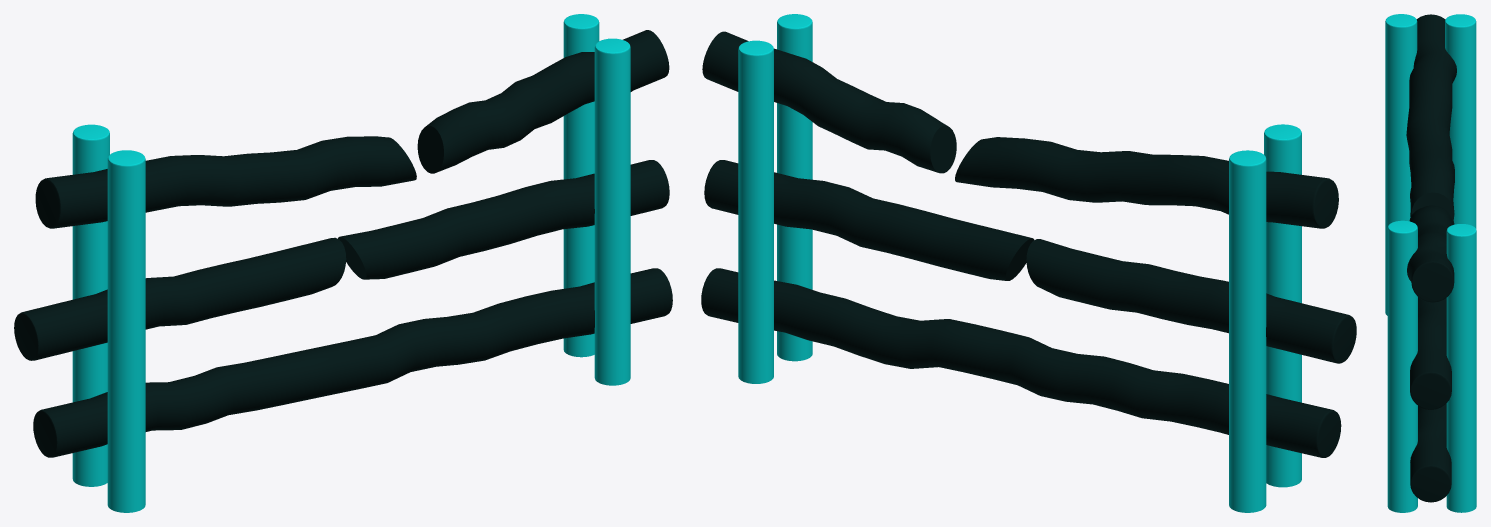
Rendered from old_fence3.fbx.
3 views of the same model, side by side, from view 1: azimuth 30°, elevation 25°; view 2: azimuth 150°, elevation 25°; view 3: azimuth 270°, elevation 25° (orthographic). The views are drawn at different scales.
Parts seen in each view (by area): view 1: old_fence_3; view 2: old_fence_3; view 3: old_fence_3.
Part boxes in pixels (bbox=[...]): old_fence_3: bbox=[14, 14, 672, 512]; old_fence_3: bbox=[701, 14, 1356, 512]; old_fence_3: bbox=[1385, 14, 1476, 512].
Bounding box in the file's own units: 4.86 × 2.54 × 0.7197.
